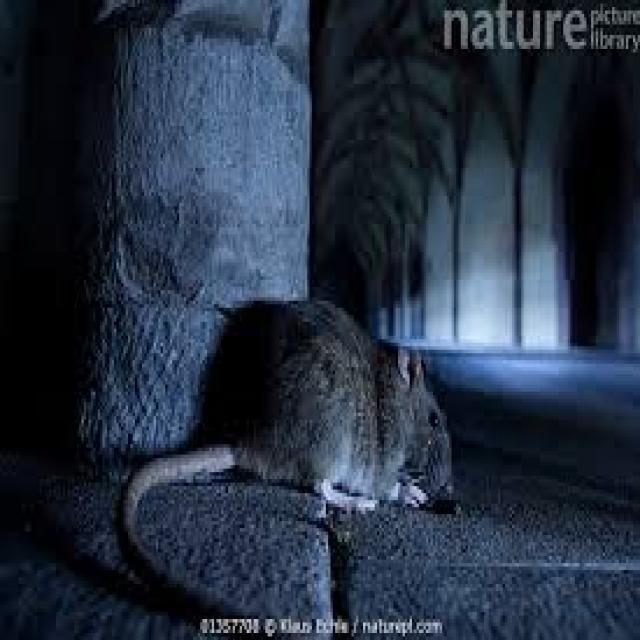Rat: (98, 211, 540, 624)
